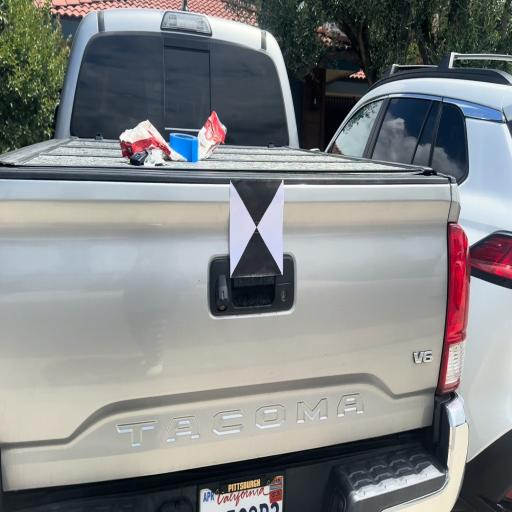target: (230, 179, 283, 274)
